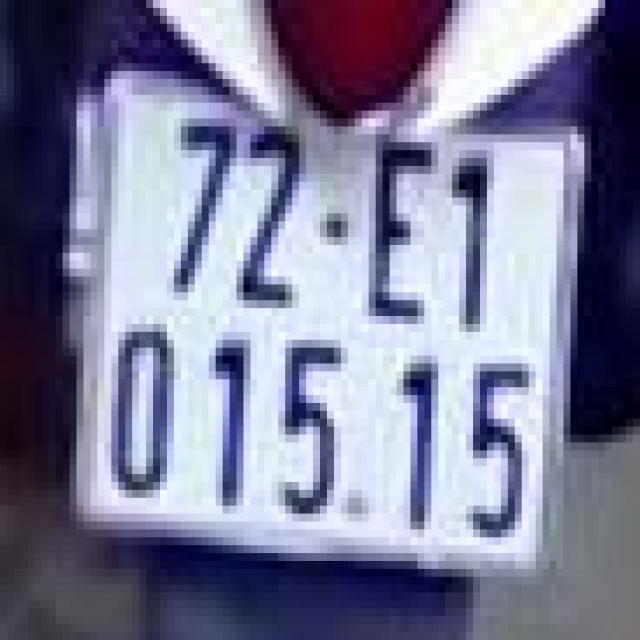0: (101, 304, 184, 518)
1: (442, 134, 504, 356), (205, 320, 261, 525), (390, 340, 445, 537)
2: (237, 115, 313, 320)
5: (445, 344, 543, 573), (268, 320, 358, 533)
7: (160, 99, 237, 304)
E: (344, 126, 442, 332)
